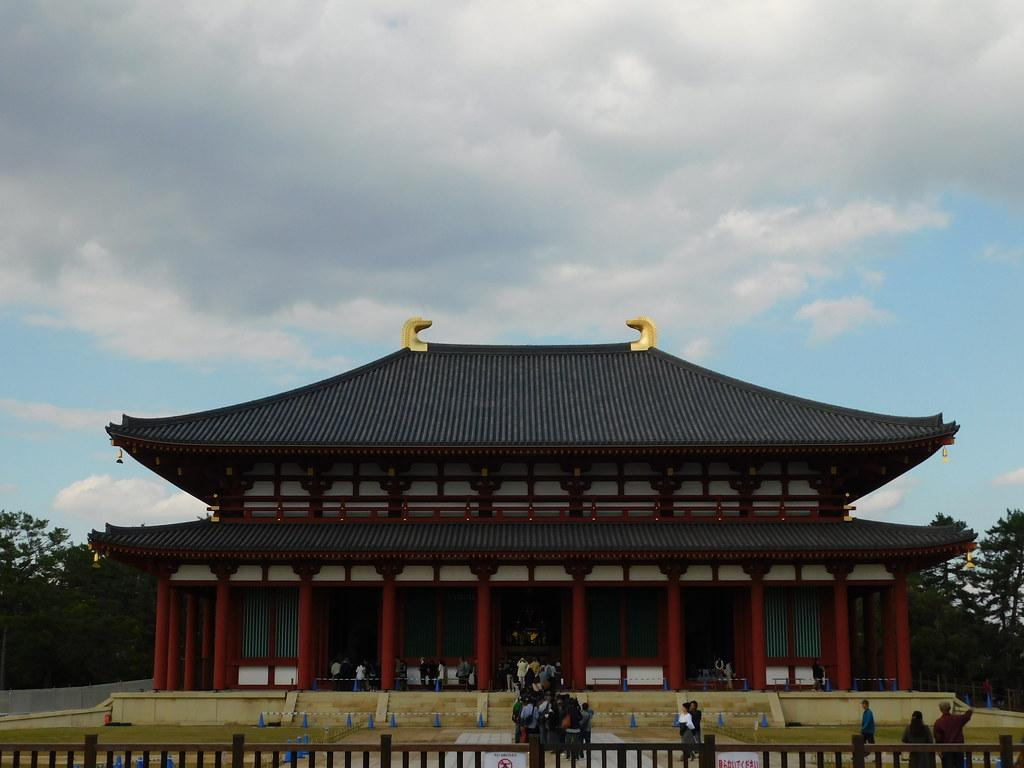temple: (86, 313, 980, 714)
